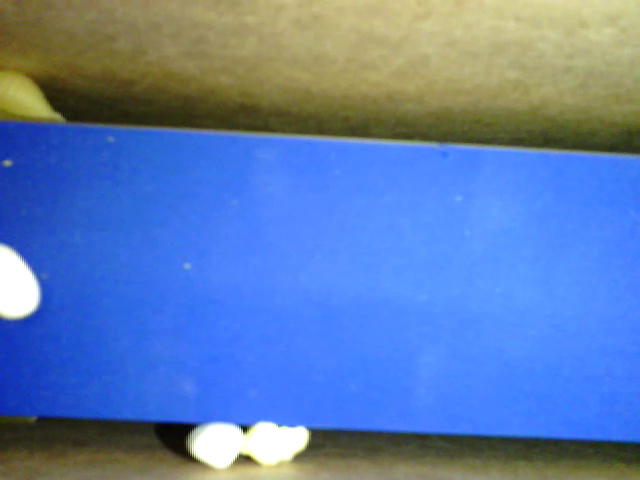shell: (2, 69, 66, 126)
